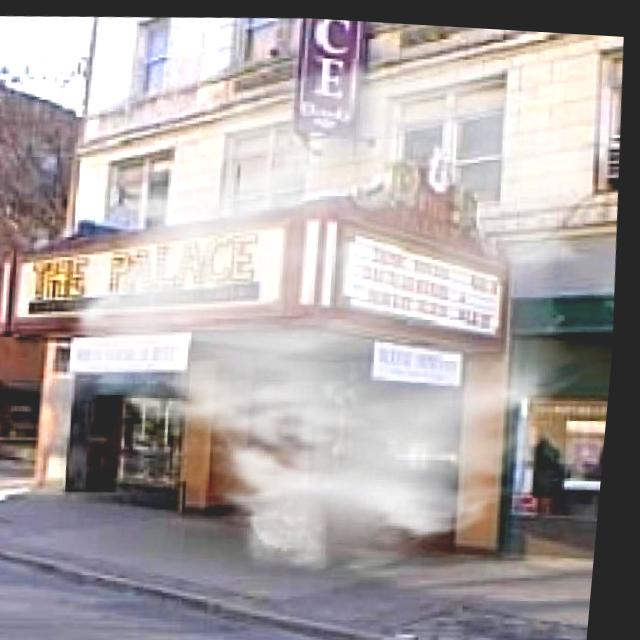Smoke: (39, 33, 613, 574)
